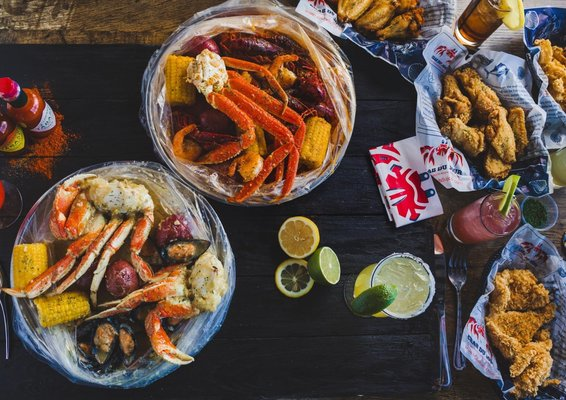burger: (446, 244, 468, 381)
sushi: (5, 162, 236, 390), (141, 1, 356, 206), (352, 252, 435, 319)
